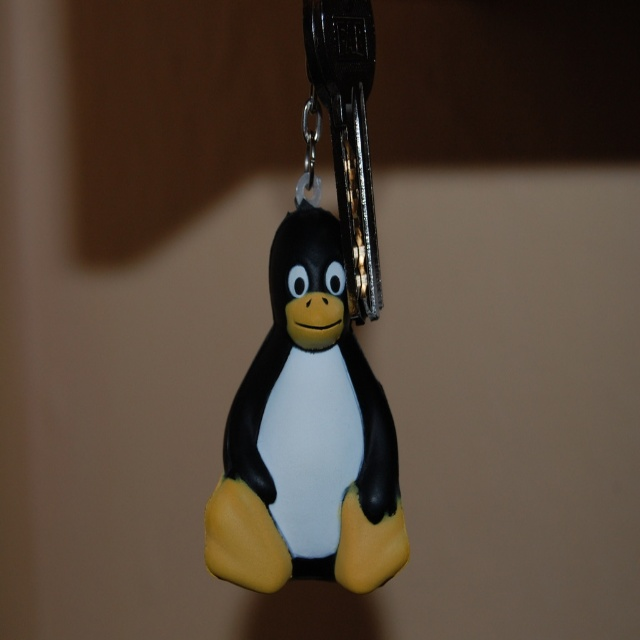Penguin: (206, 193, 410, 594)
